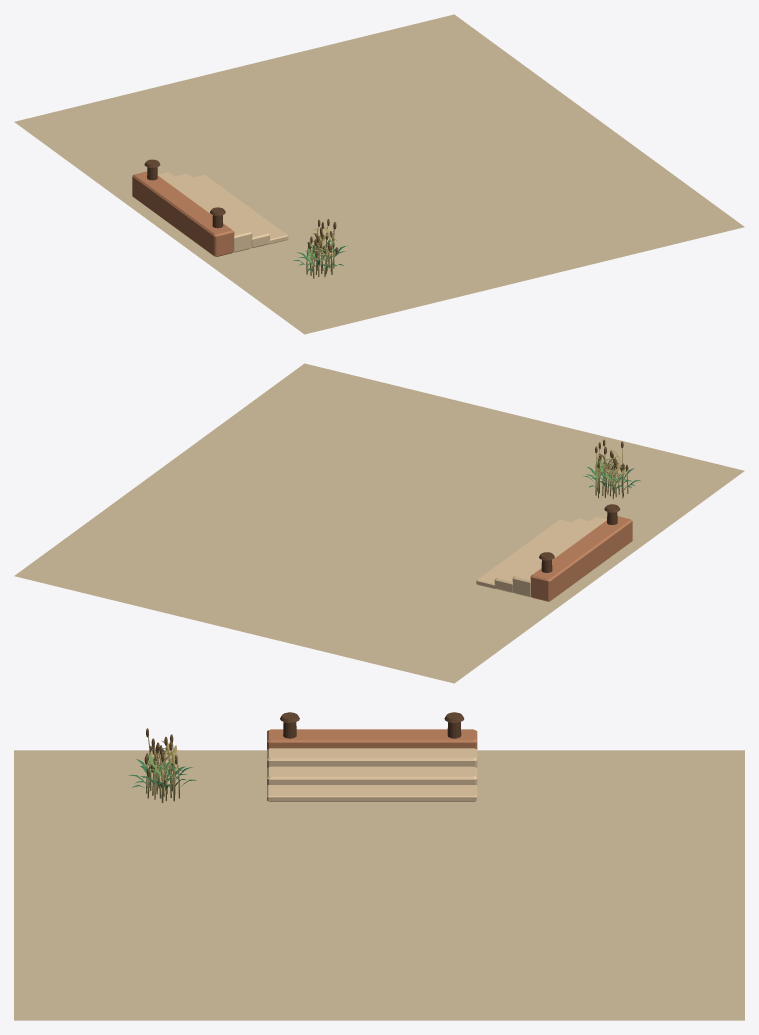
Rendered from room-steps_s.glb.
3 views of the same model, one above another, from view 1: azimuth 30°, elevation 25°; view 2: azimuth 150°, elevation 25°; view 3: azimuth 270°, elevation 25° (orthographic). The views are drawn at different scales.
Parts seen in each view (by area): view 1: Surveyed floor · room-steps_s, Reed Steps · ghat stair and mooring pins · sandstone, Reed Steps · ghat stair and mooring pins · limestone, Ghat · living reeds; view 2: Surveyed floor · room-steps_s, Reed Steps · ghat stair and mooring pins · sandstone, Reed Steps · ghat stair and mooring pins · limestone, Ghat · living reeds; view 3: Surveyed floor · room-steps_s, Reed Steps · ghat stair and mooring pins · limestone, Reed Steps · ghat stair and mooring pins · sandstone, Ghat · living reeds, Reed Steps · ghat stair and mooring pins · timber.
Boxes of the visible parts, x1,y1,x2,y2 form: Surveyed floor · room-steps_s: [14, 14, 744, 334]; Reed Steps · ghat stair and mooring pins · sandstone: [132, 171, 234, 256]; Reed Steps · ghat stair and mooring pins · limestone: [158, 172, 288, 252]; Ghat · living reeds: [293, 219, 347, 278]; Surveyed floor · room-steps_s: [14, 363, 744, 683]; Reed Steps · ghat stair and mooring pins · sandstone: [530, 516, 632, 601]; Reed Steps · ghat stair and mooring pins · limestone: [476, 517, 606, 597]; Ghat · living reeds: [583, 439, 641, 498]; Surveyed floor · room-steps_s: [14, 750, 744, 1020]; Reed Steps · ghat stair and mooring pins · limestone: [267, 748, 477, 801]; Reed Steps · ghat stair and mooring pins · sandstone: [267, 729, 477, 749]; Ghat · living reeds: [128, 728, 196, 802]; Reed Steps · ghat stair and mooring pins · timber: [280, 712, 464, 738].
Size of the model in its own units: 14 by 1.56 by 16.
